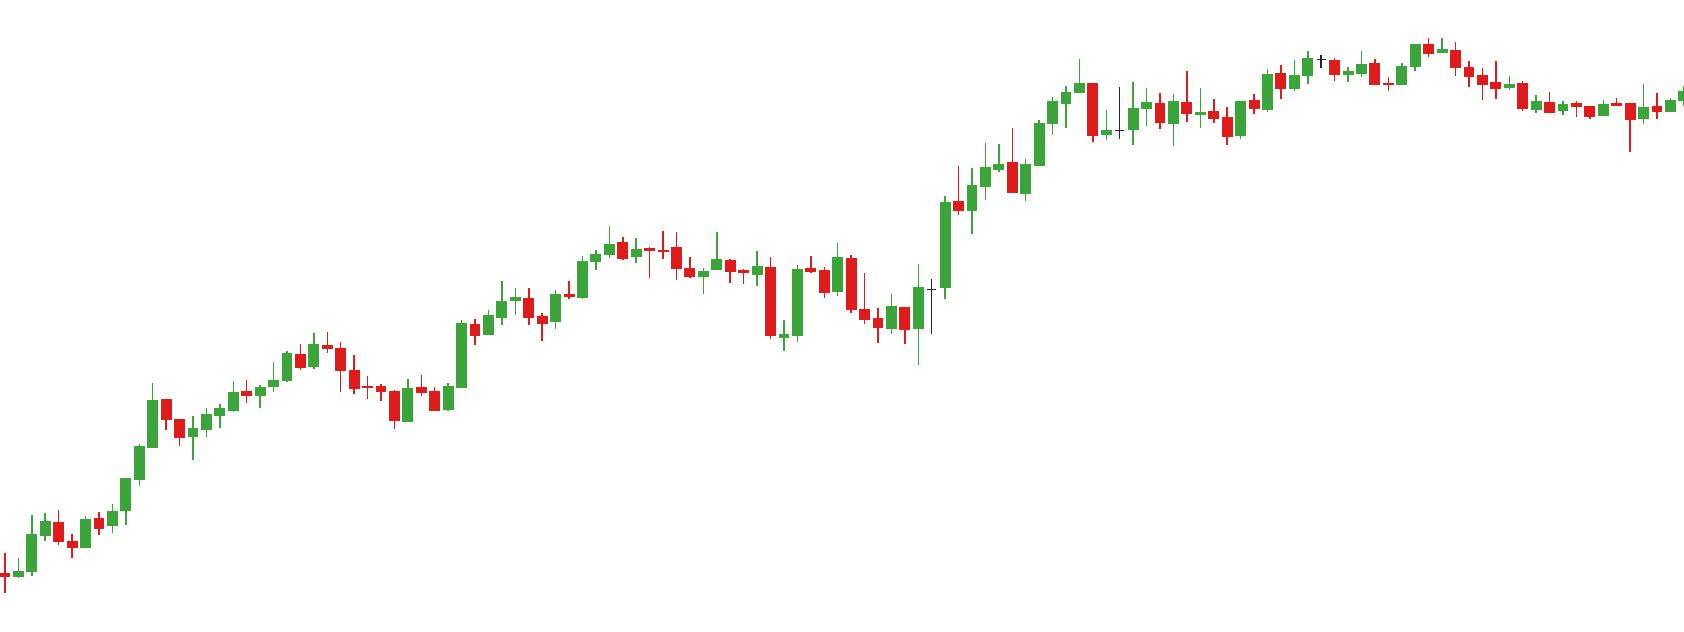buy: (780, 275, 925, 367)
